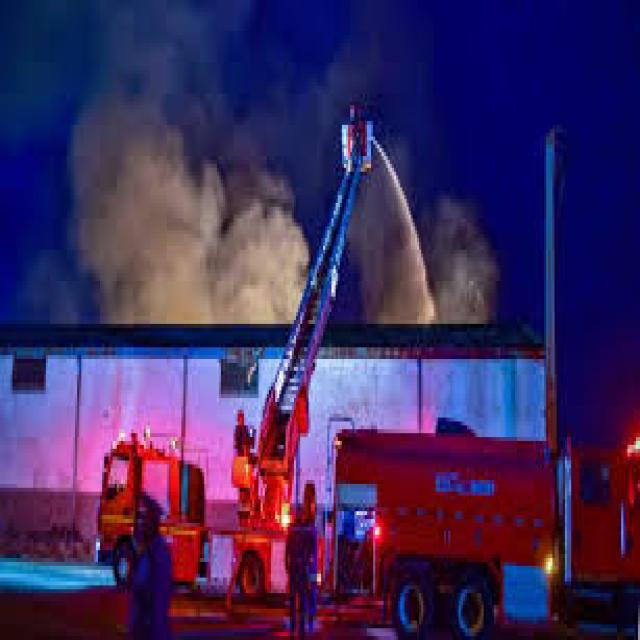pompier: (333, 414, 626, 640), (96, 412, 295, 600)
